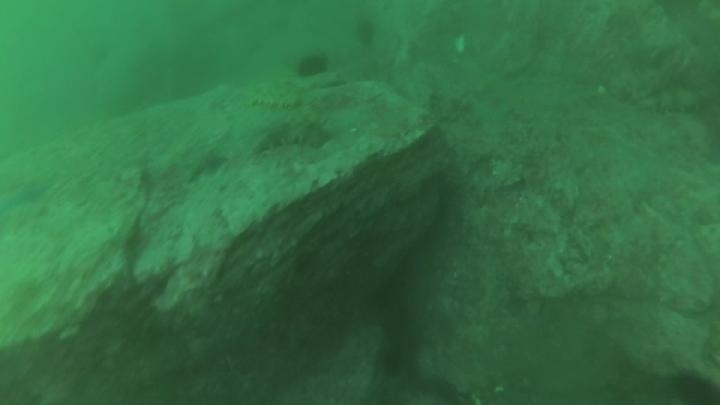echinus: (668, 368, 719, 404), (292, 50, 331, 81), (352, 16, 380, 49)
holothurian: (250, 114, 336, 156), (633, 83, 708, 118), (237, 81, 306, 112)
starfish: (0, 175, 54, 219), (179, 141, 229, 184), (465, 93, 515, 127)
